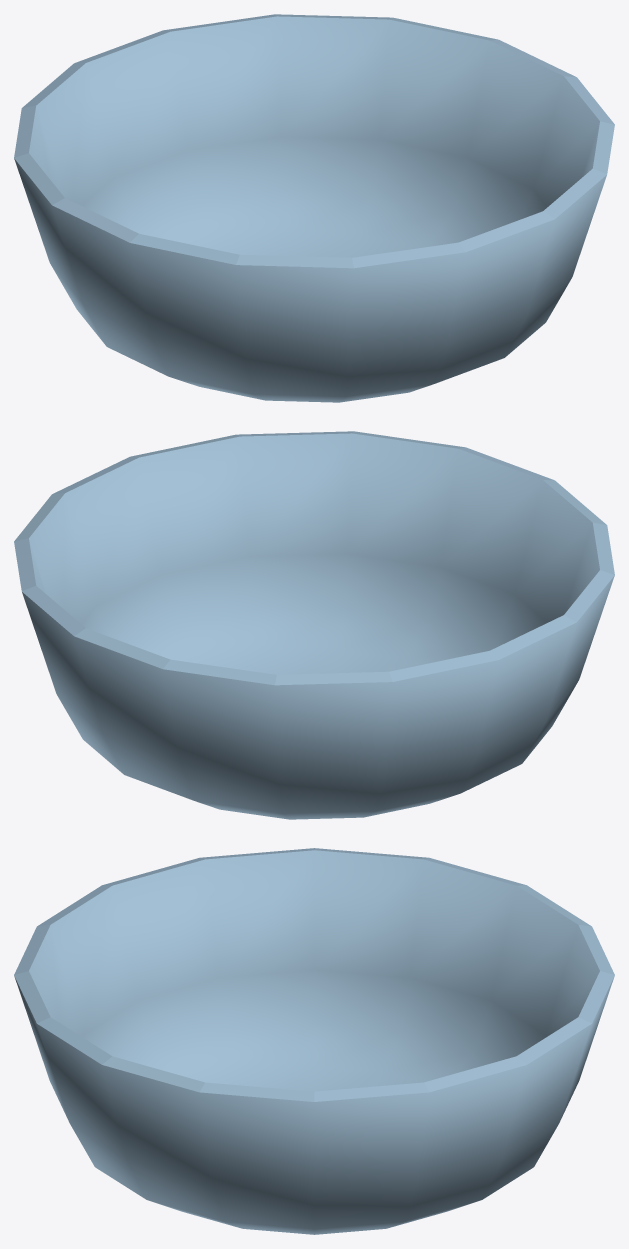
Rendered from mixing bowl small.fbx.
The picture shows the model from 3 angles, top to bottom: view 1: azimuth 30°, elevation 25°; view 2: azimuth 150°, elevation 25°; view 3: azimuth 270°, elevation 25°; orthographic projection.
Parts seen in each view (by area): view 1: mixing bowl small; view 2: mixing bowl small; view 3: mixing bowl small.
Boxes of the visible parts, <box> form: mixing bowl small: <box>14,14,614,402</box>; mixing bowl small: <box>14,431,614,819</box>; mixing bowl small: <box>14,848,614,1234</box>.
Bounding box in the file's own units: 0.5786 × 0.2099 × 0.5786.
